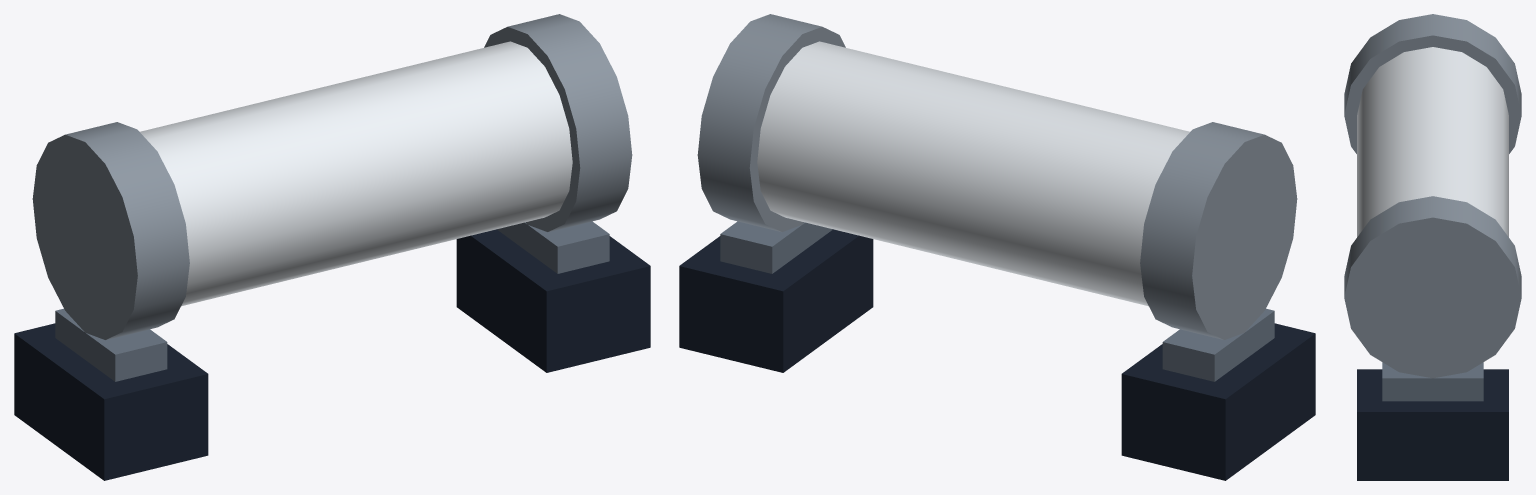
The model's file is fuse.glb.
3 views of the same model, side by side, from view 1: azimuth 30°, elevation 25°; view 2: azimuth 150°, elevation 25°; view 3: azimuth 270°, elevation 25° (orthographic). The views are drawn at different scales.
Size of the model in its own units: 0.42 by 0.22 by 0.14.
